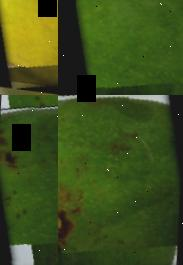Ripe: (0, 0, 58, 95)
Unripe: (58, 95, 183, 265), (58, 0, 183, 95), (0, 95, 58, 265)
